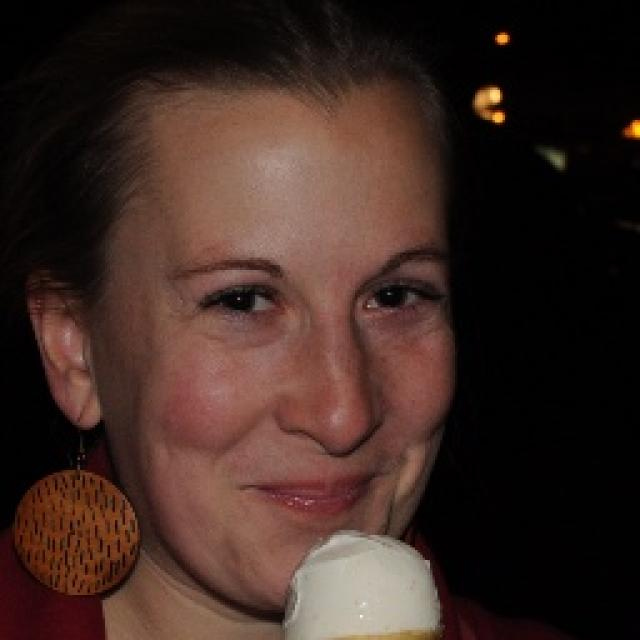earlobe: (56, 369, 103, 430)
eye: (200, 286, 281, 316), (362, 283, 433, 315)
nose: (274, 423, 391, 507)
wholeear: (22, 266, 104, 429)
